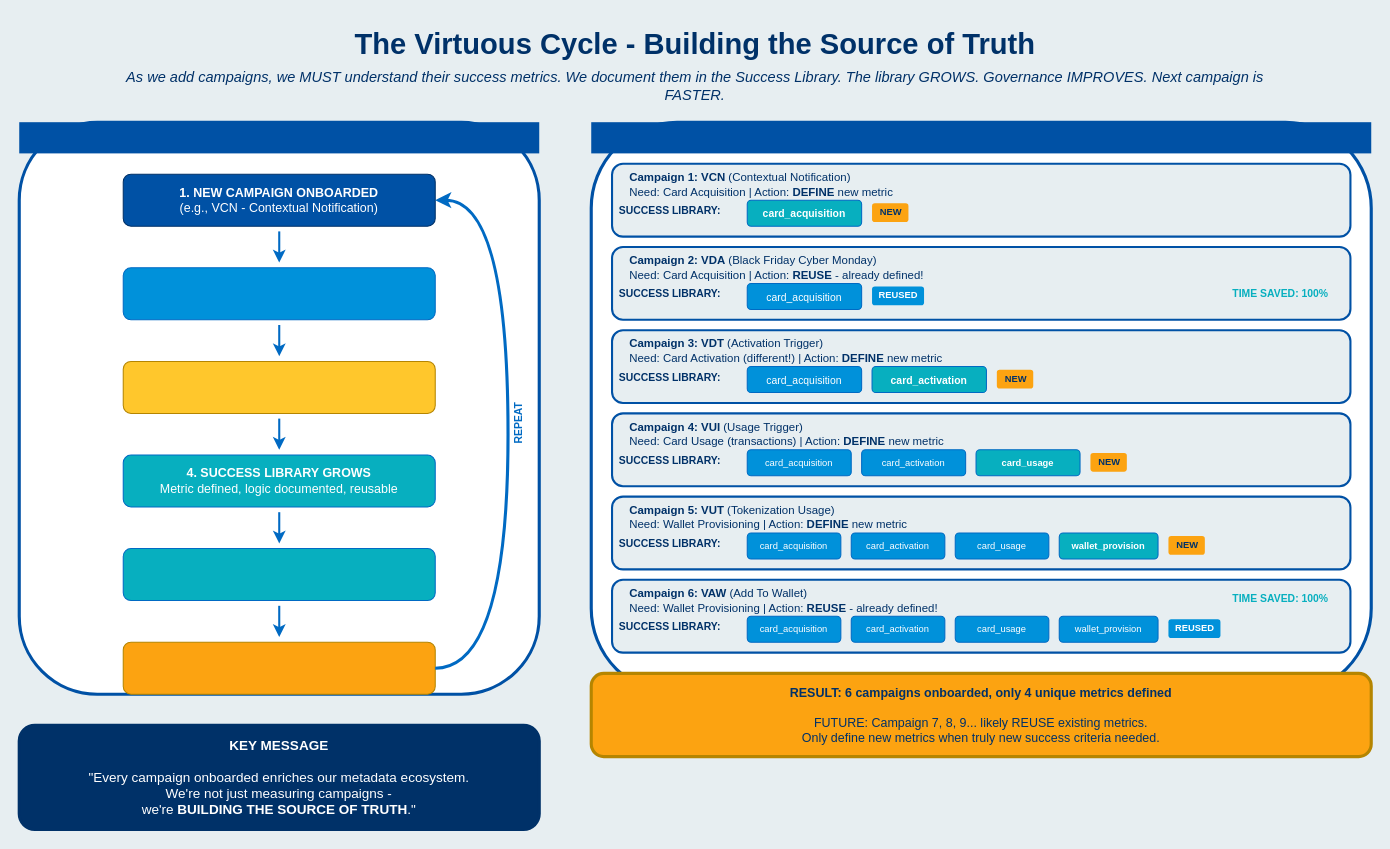
This 1390x849 diagram has some shape labels left out. Here are the shapes that lost their labels. From the top down, the centre of each, then its label:
(279,137): THE CYCLE
(981,137): SUCCESS LIBRARY GROWTH OVER 6 CAMPAIGNS
(278,293): 2. UNDERSTAND SUCCESS METRIC "What does success mean for this campaign?"
(278,386): 3. DOCUMENT IN SUCCESS LIBRARY Table, filters, business rules, date field
(278,574): 5. GOVERNANCE IMPROVES Single source of truth, audit trail, version control
(278,667): 6. NEXT CAMPAIGN IS FASTER Reuse existing metrics, only define new if needed
